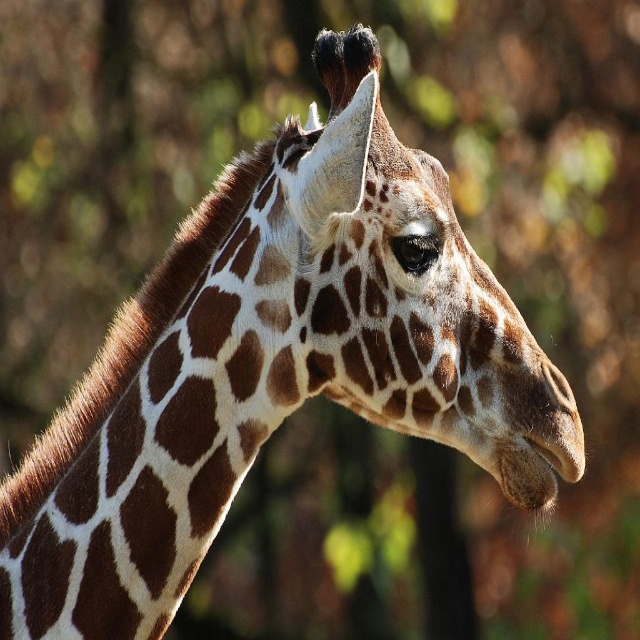Giraffe: (6, 46, 568, 627)
